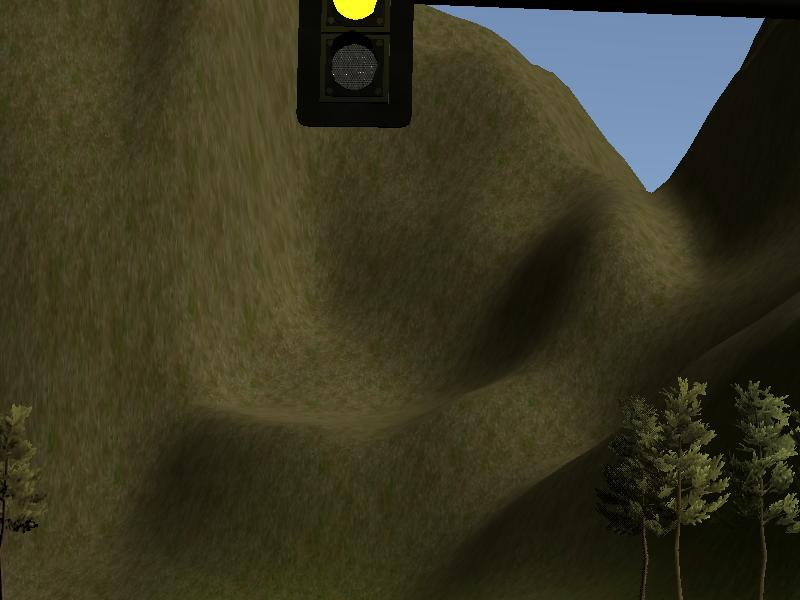yellow_light: (305, 1, 412, 124)
